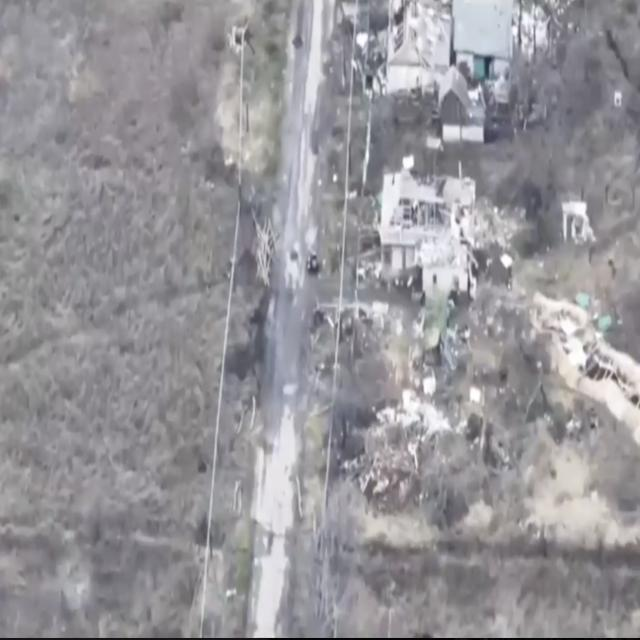vehicle: (303, 249, 324, 278)
